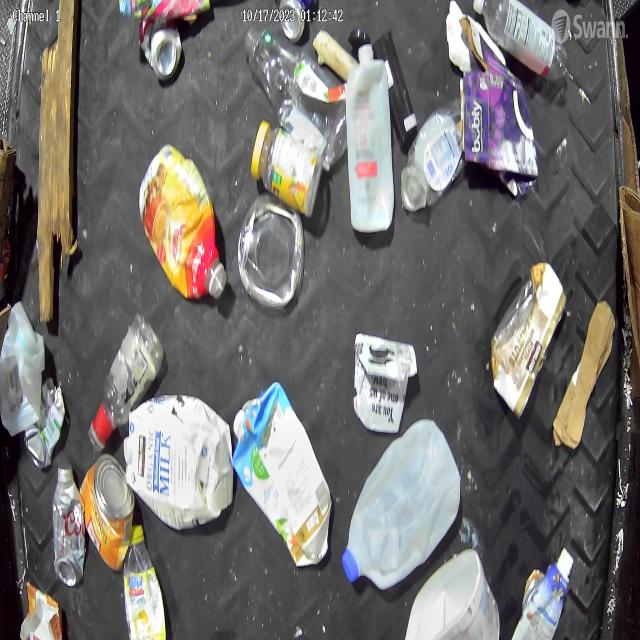can: (82, 452, 135, 569), (24, 376, 65, 468), (139, 12, 182, 79)
milk_jug: (343, 425, 463, 582), (123, 394, 233, 528), (347, 45, 395, 233), (404, 549, 497, 640), (0, 304, 42, 439)
non_white_jug: (232, 380, 332, 567)
plastic_bottle: (243, 28, 347, 169), (90, 311, 166, 454), (473, 0, 568, 81), (124, 524, 168, 639)
